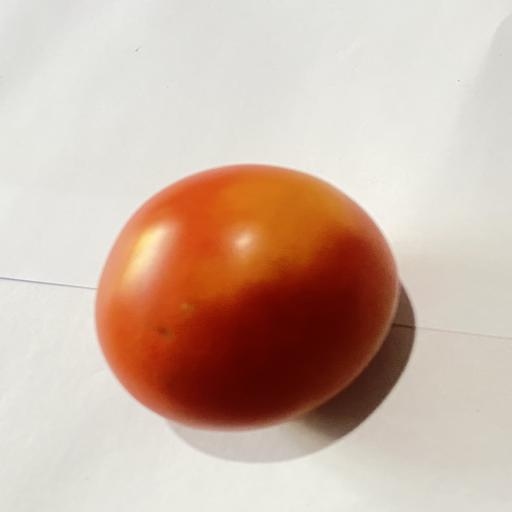ripe: (96, 165, 399, 430)
